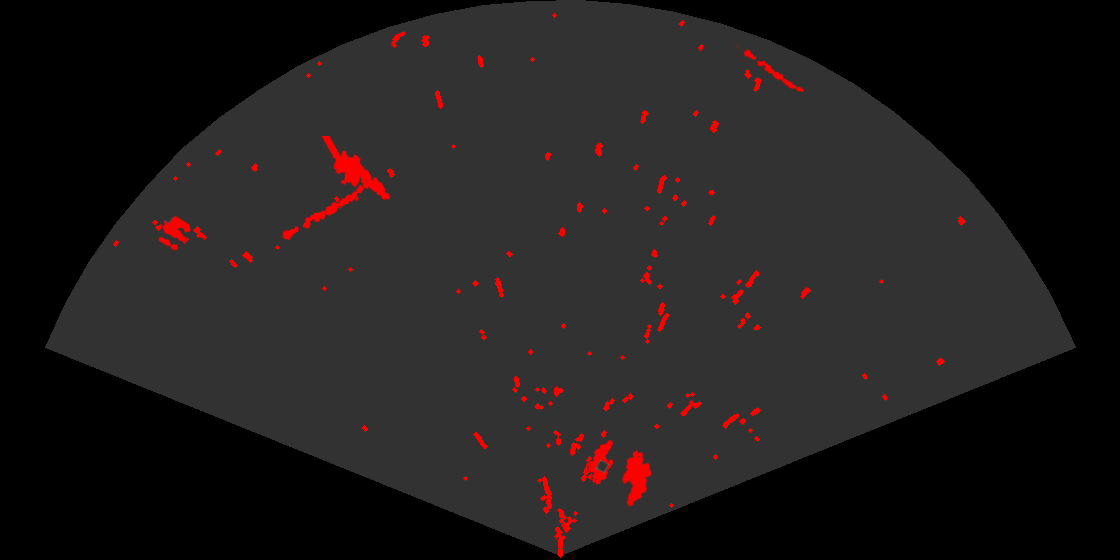AUV: (620, 449, 654, 509), (587, 439, 615, 486)
ball: (157, 214, 192, 252)
chain: (281, 182, 367, 241), (734, 44, 806, 94)
frogman: (321, 136, 392, 202)
